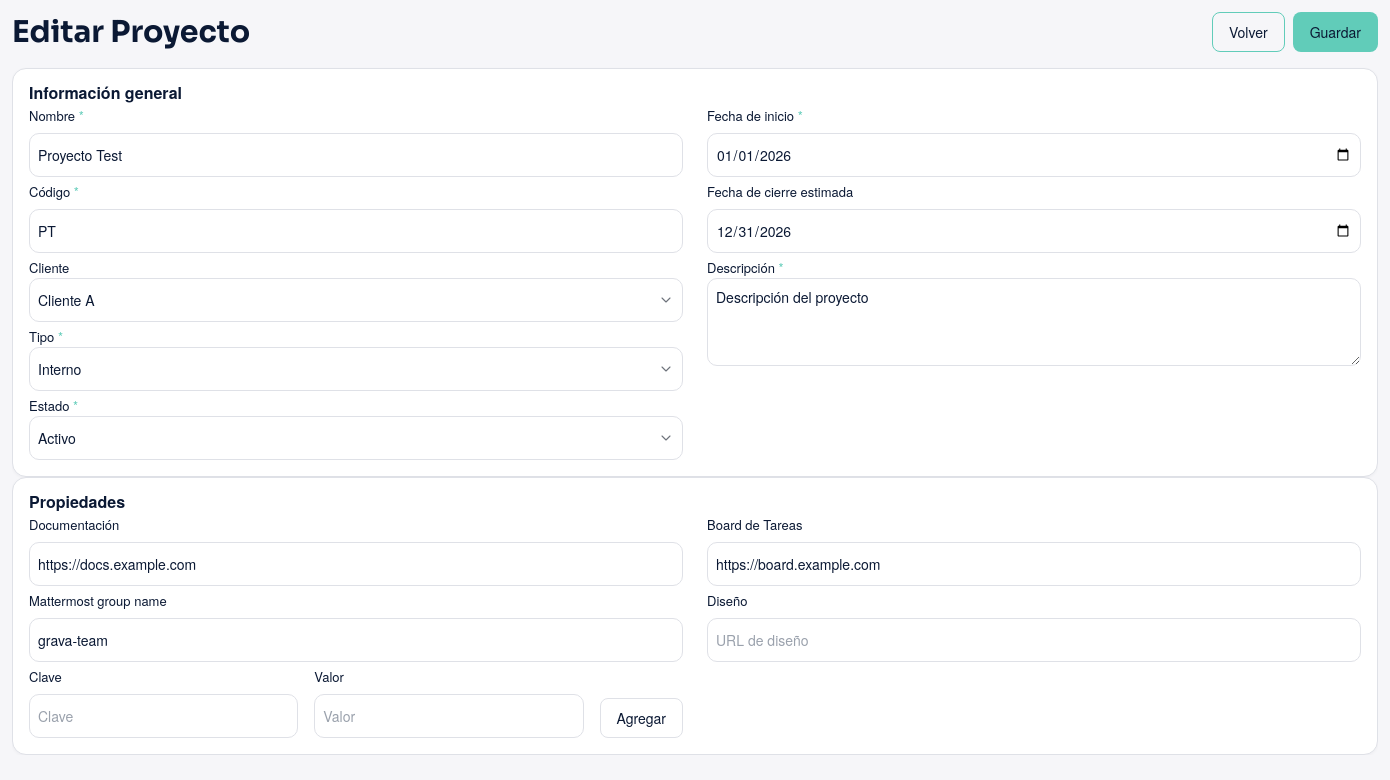
ProjectEditForm — migración al Design System (S-056) › TS-9 (edit): eliminar propiedad dinámica no dispara el submit
The width and height of the screenshot is (1390, 780).
expect the heading "Información general" is shown: met, box [29,81,182,104]
Type "repo" into the field labelled "Clave".
click(164, 716); type("repo")  # box [29,694,298,738]
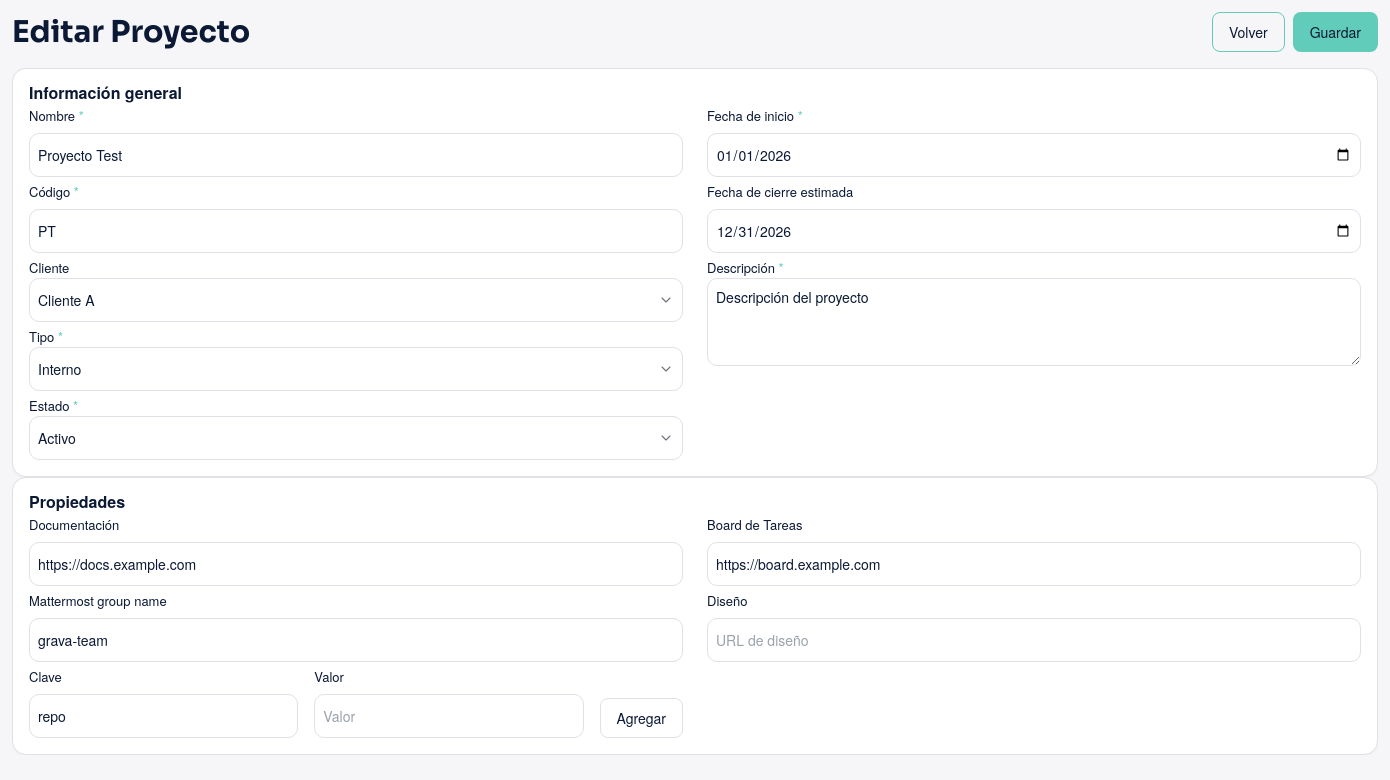
Click the button "Agregar".
click(641, 718)  # box [600,698,683,738]
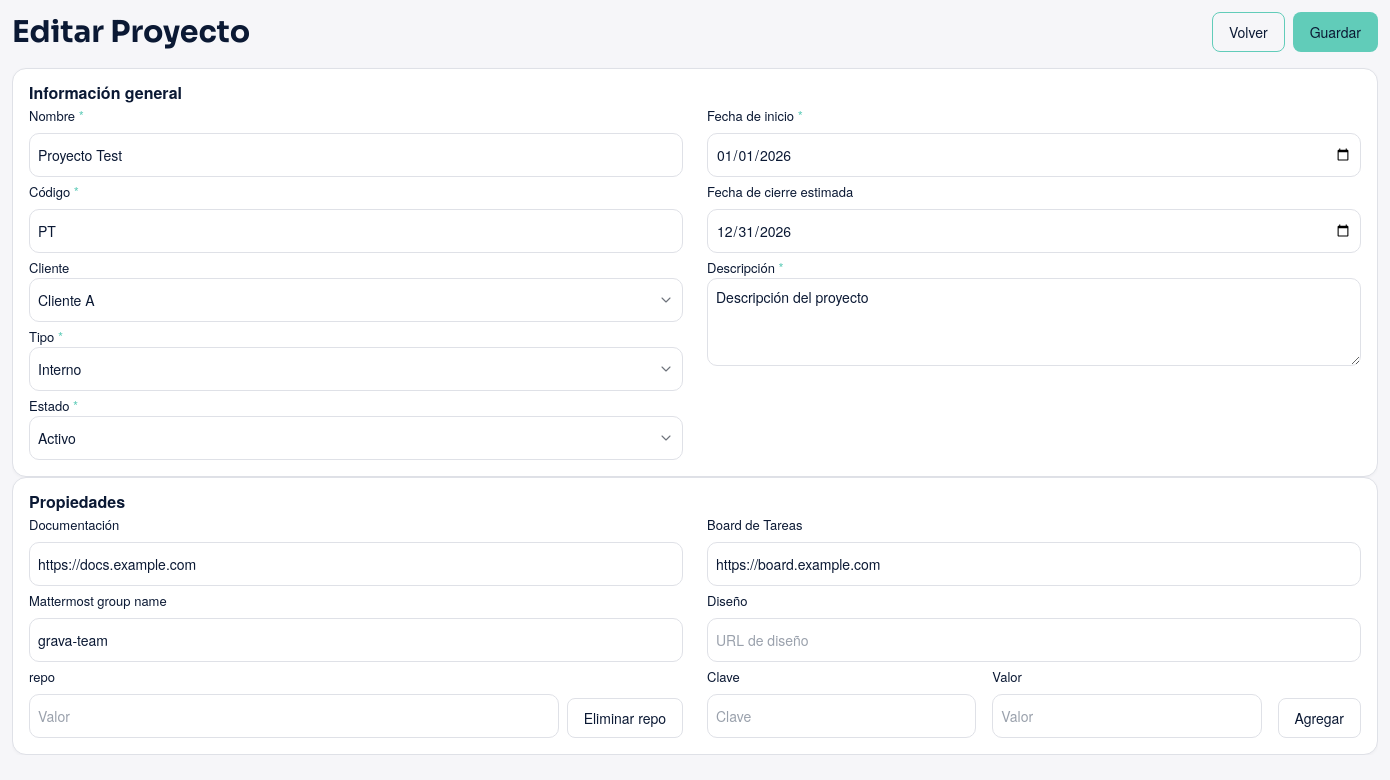
expect the field labelled "repo" is shown: met, box [29,694,559,738]
Click the button "Eliminar repo".
click(625, 718)  # box [567,698,683,738]
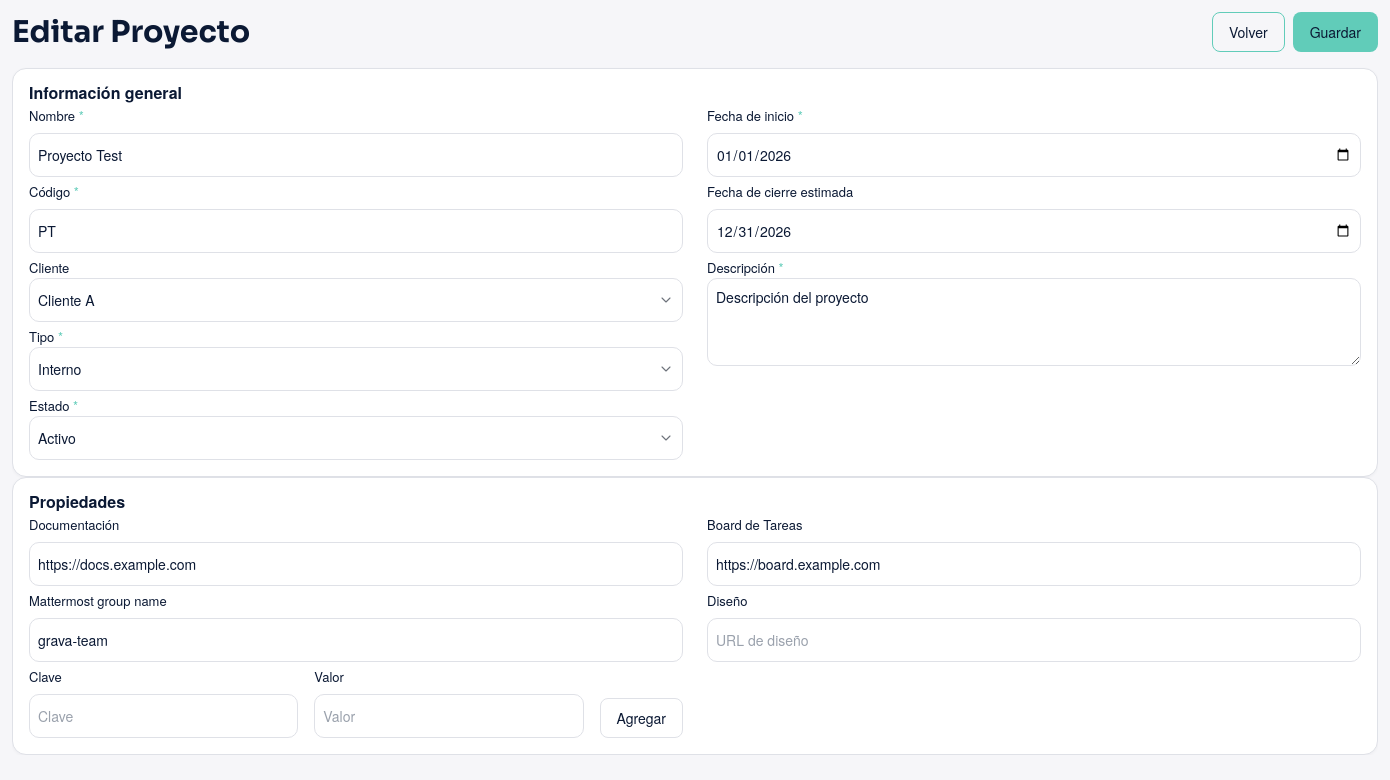
expect the label labelled "repo" is gone: met
